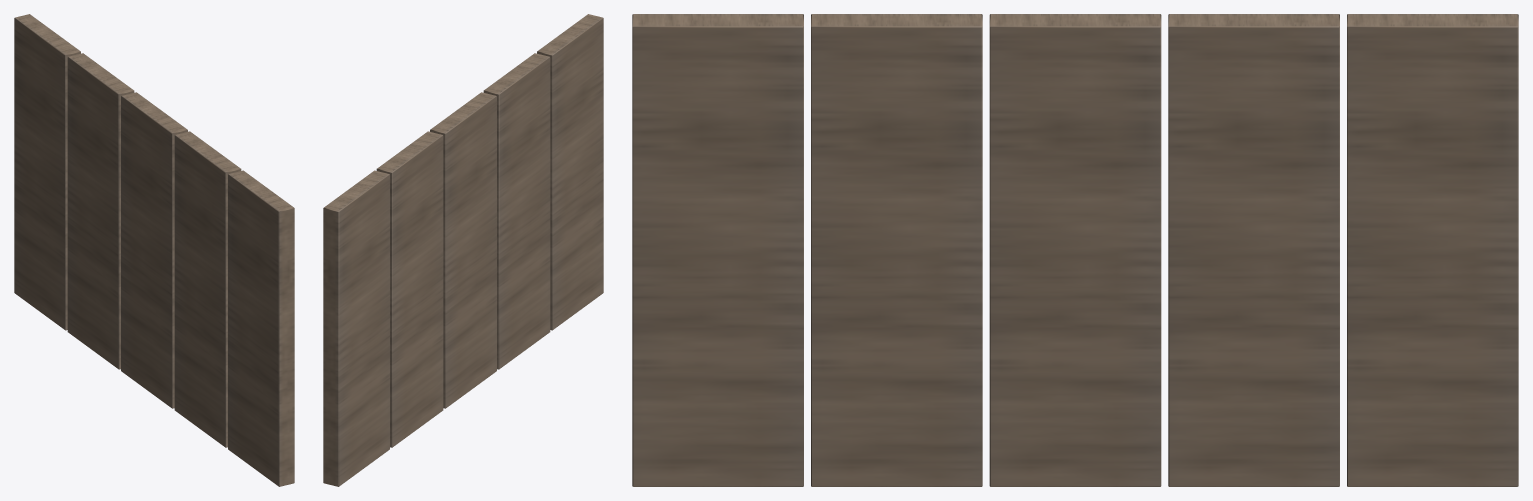
The model's file is BW_StableA01_LoftHatch.fbx.
3 views of the same model, side by side, from view 1: azimuth 30°, elevation 25°; view 2: azimuth 150°, elevation 25°; view 3: azimuth 270°, elevation 25° (orthographic). The views are drawn at different scales.
Visible parts, largest first — view 1: BW_StableA01_LoftHatch; view 2: BW_StableA01_LoftHatch; view 3: BW_StableA01_LoftHatch.
Boxes of the visible parts, x1,y1,x2,y2 form: BW_StableA01_LoftHatch: (14,14,294,486); BW_StableA01_LoftHatch: (323,14,603,486); BW_StableA01_LoftHatch: (632,14,1518,486).
Size of the model in its own units: 0.045 by 0.74 by 1.29.
